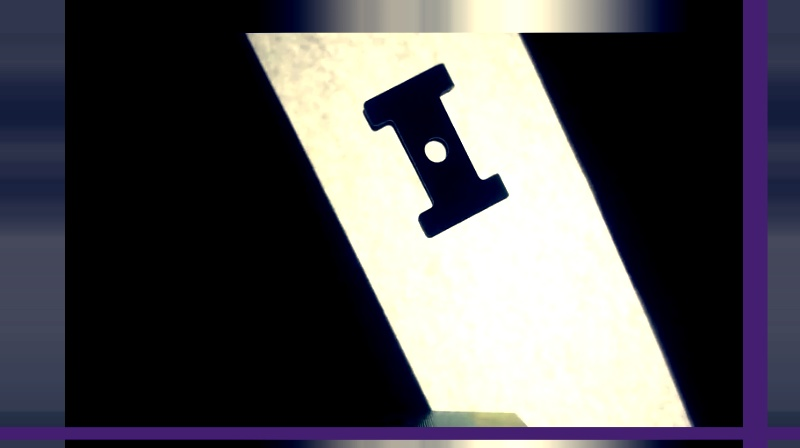O002: (360, 62, 511, 241)
